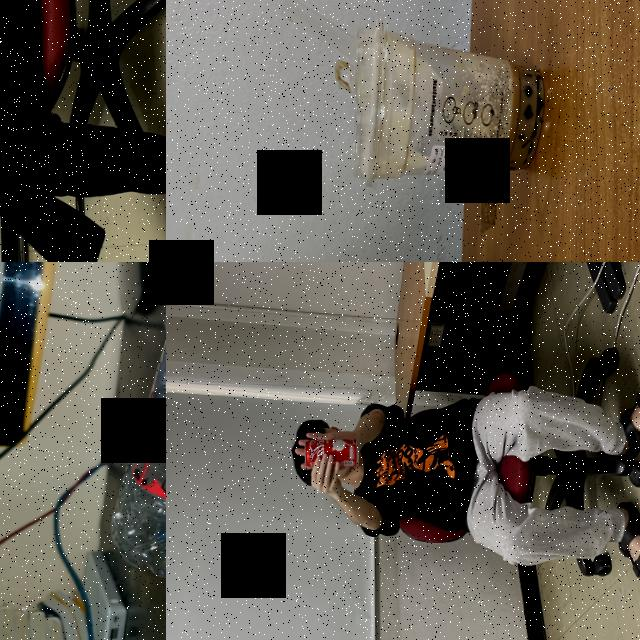bottle: (106, 262, 166, 585)
can: (303, 436, 360, 468)
cup: (352, 21, 548, 192)
